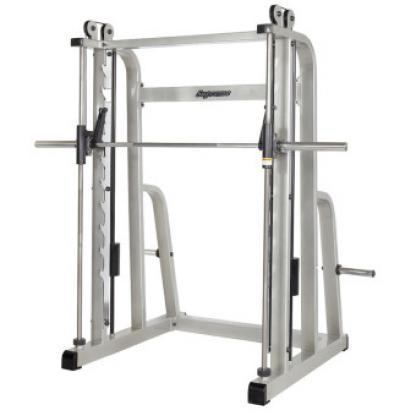smith machine: (61, 4, 350, 406)
